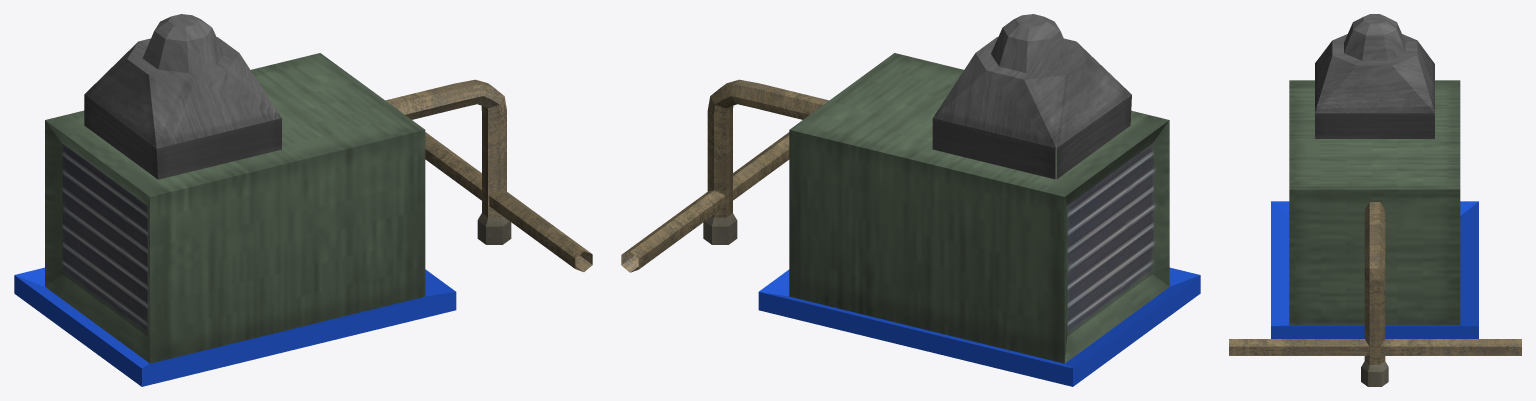
File: Torre Resfriamento 2.fbx
The picture shows the model from 3 angles, left to right: view 1: azimuth 30°, elevation 25°; view 2: azimuth 150°, elevation 25°; view 3: azimuth 270°, elevation 25°; orthographic projection. The views are drawn at different scales.
Visible parts, largest first — view 1: Cube.001; view 2: Cube.001; view 3: Cube.001.
Part boxes in pixels (x1,y1,x2,y2): Cube.001: (14,14,592,386); Cube.001: (621,14,1200,386); Cube.001: (1229,14,1521,386).
Size of the model in its own units: 769 by 503 by 558.
